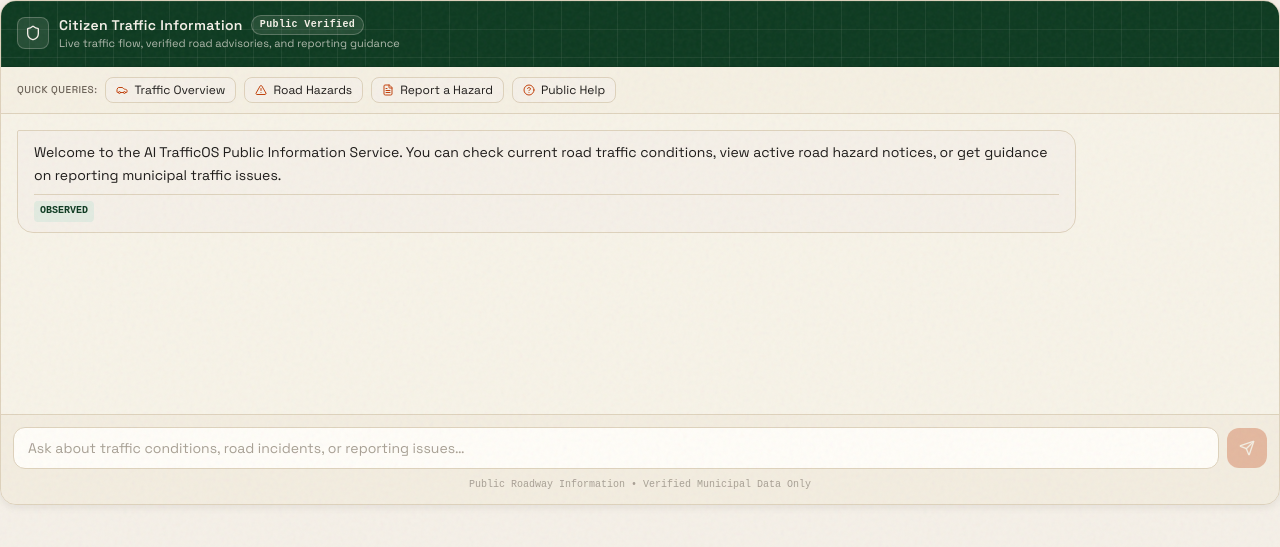
Test: CitizenChatWidget Component (citizen-chat.test.tsx) › submits public traffic inquiry and renders grounded answer with observed provenance
The image size is (1280, 547).
Replace the text in the field with test id "citizen-chat-input" with "How is traffic downtown?": (616,448) [13,427,1219,469]
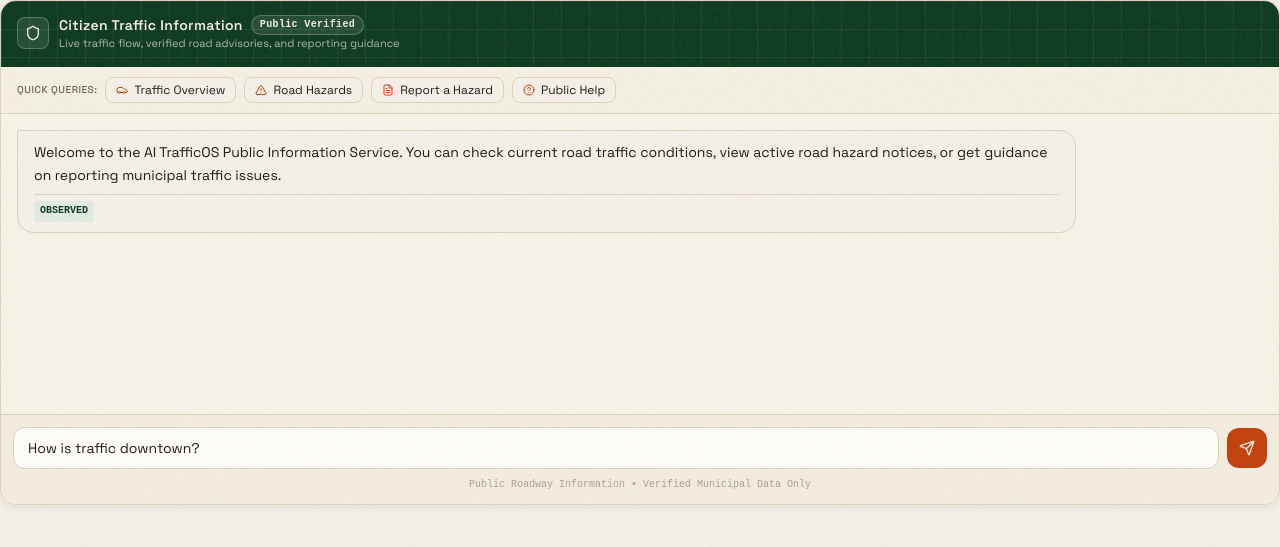
Click the button with test id "citizen-send-button": (1247,448) [1227,428,1267,468]
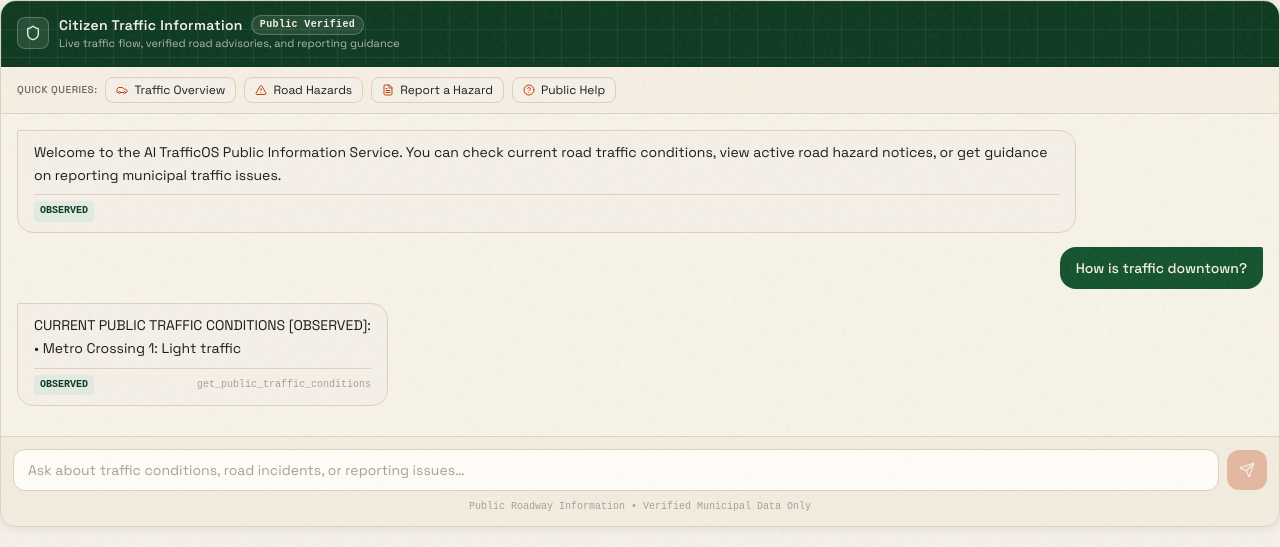
Result: the text "CURRENT PUBLIC TRAFFIC CONDITIONS" is shown at [34,316,371,357]
Result: the text with test id "citizen-provenance-tag" next to "get_public_traffic_conditions" reads "OBSERVED" at [40,379,88,390]
Result: the text "get_public_traffic_conditions" is shown at [197,377,371,393]
